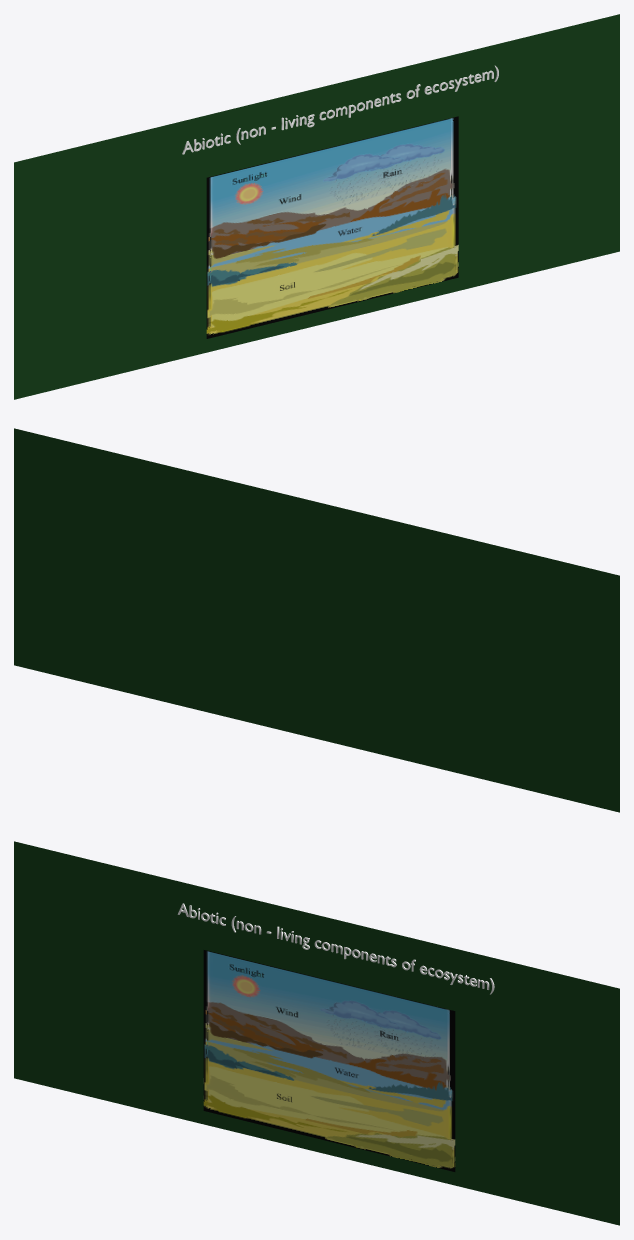
The model's file is abiotic.gltf.
The picture shows the model from 3 angles, top to bottom: view 1: azimuth 30°, elevation 25°; view 2: azimuth 150°, elevation 25°; view 3: azimuth 330°, elevation 25°; orthographic projection.
Visible parts, largest first — view 1: Plane.013, Plane.002, Text.001; view 2: Plane.013; view 3: Plane.013, Plane.002, Text.001.
Boxes of the visible parts, left/top/right/bottom form: Plane.013: left=14, top=14, right=619, bottom=399; Plane.002: left=206, top=116, right=458, bottom=338; Text.001: left=182, top=65, right=498, bottom=154; Plane.013: left=14, top=428, right=619, bottom=812; Plane.013: left=14, top=841, right=619, bottom=1225; Plane.002: left=203, top=950, right=455, bottom=1171; Text.001: left=177, top=903, right=494, bottom=994.
Bounding box in the file's own units: 15.94 × 5.96 × 0.1404.
Materials: 3 (1 with a texture image).
